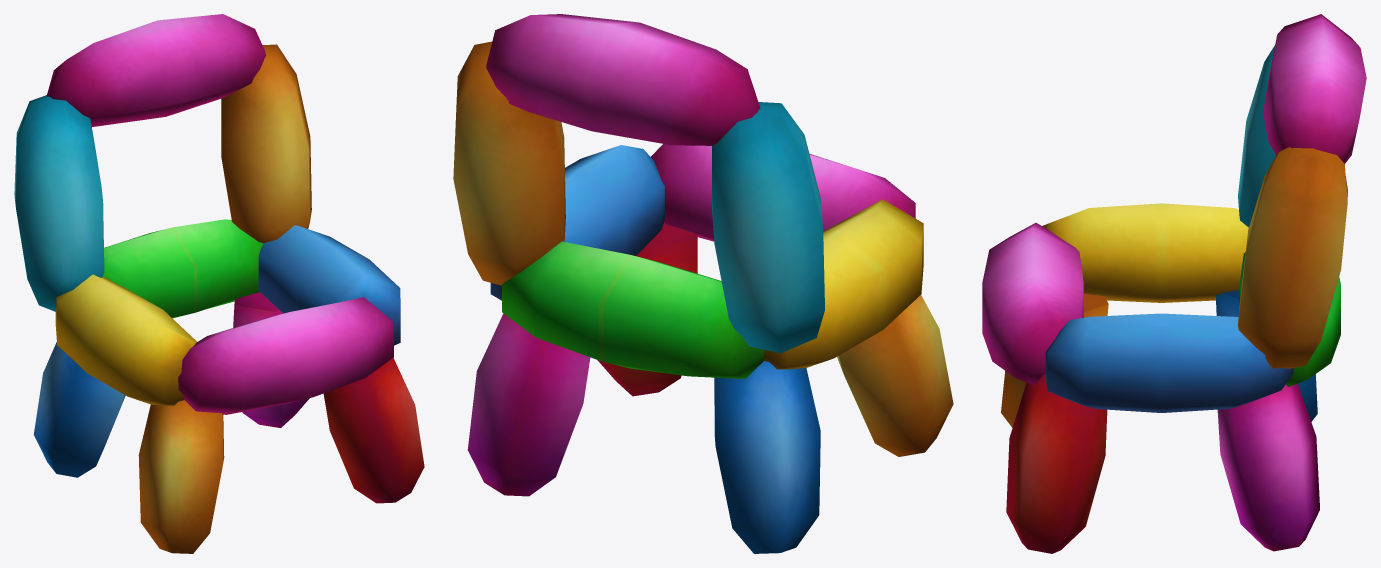
File: int_bal_chairS.dae
3 views of the same model, side by side, from view 1: azimuth 30°, elevation 25°; view 2: azimuth 150°, elevation 25°; view 3: azimuth 270°, elevation 25° (orthographic). The views are drawn at different scales.
Parts seen in each view (by area): view 1: int_bal_chairS; view 2: int_bal_chairS; view 3: int_bal_chairS.
Part boxes in pixels (x1,y1,x2,y2): int_bal_chairS: (14, 14, 424, 553); int_bal_chairS: (453, 14, 953, 553); int_bal_chairS: (982, 14, 1366, 553).
Size of the model in its own units: 23.06 by 30.79 by 23.83.
1 material, 1 textured.
